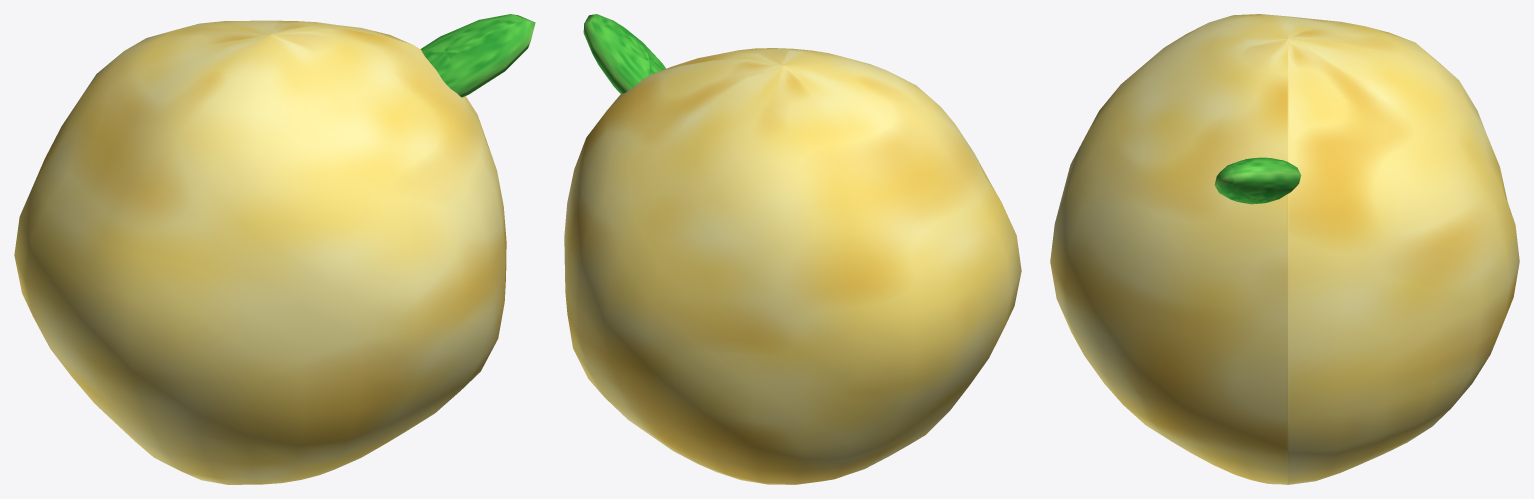
File: home_yuzu_moon.obj
3 renders of one model, left to right at view 1: azimuth 30°, elevation 25°; view 2: azimuth 150°, elevation 25°; view 3: azimuth 270°, elevation 25°, orthographic. The views are drawn at different scales.
Parts seen in each view (by area): view 1: yuzu_moon_orb, yuzu_moon_leaf; view 2: yuzu_moon_orb, yuzu_moon_leaf; view 3: yuzu_moon_orb, yuzu_moon_leaf.
Boxes of the visible parts, bbox=[...] form: yuzu_moon_orb: bbox=[14, 20, 506, 484]; yuzu_moon_leaf: bbox=[420, 14, 535, 97]; yuzu_moon_orb: bbox=[564, 48, 1021, 484]; yuzu_moon_leaf: bbox=[583, 14, 665, 93]; yuzu_moon_orb: bbox=[1050, 14, 1519, 484]; yuzu_moon_leaf: bbox=[1214, 157, 1301, 204].
Bounding box in the file's own units: 3.69 × 3.33 × 3.37.
Materials: 2 (2 with a texture image).
